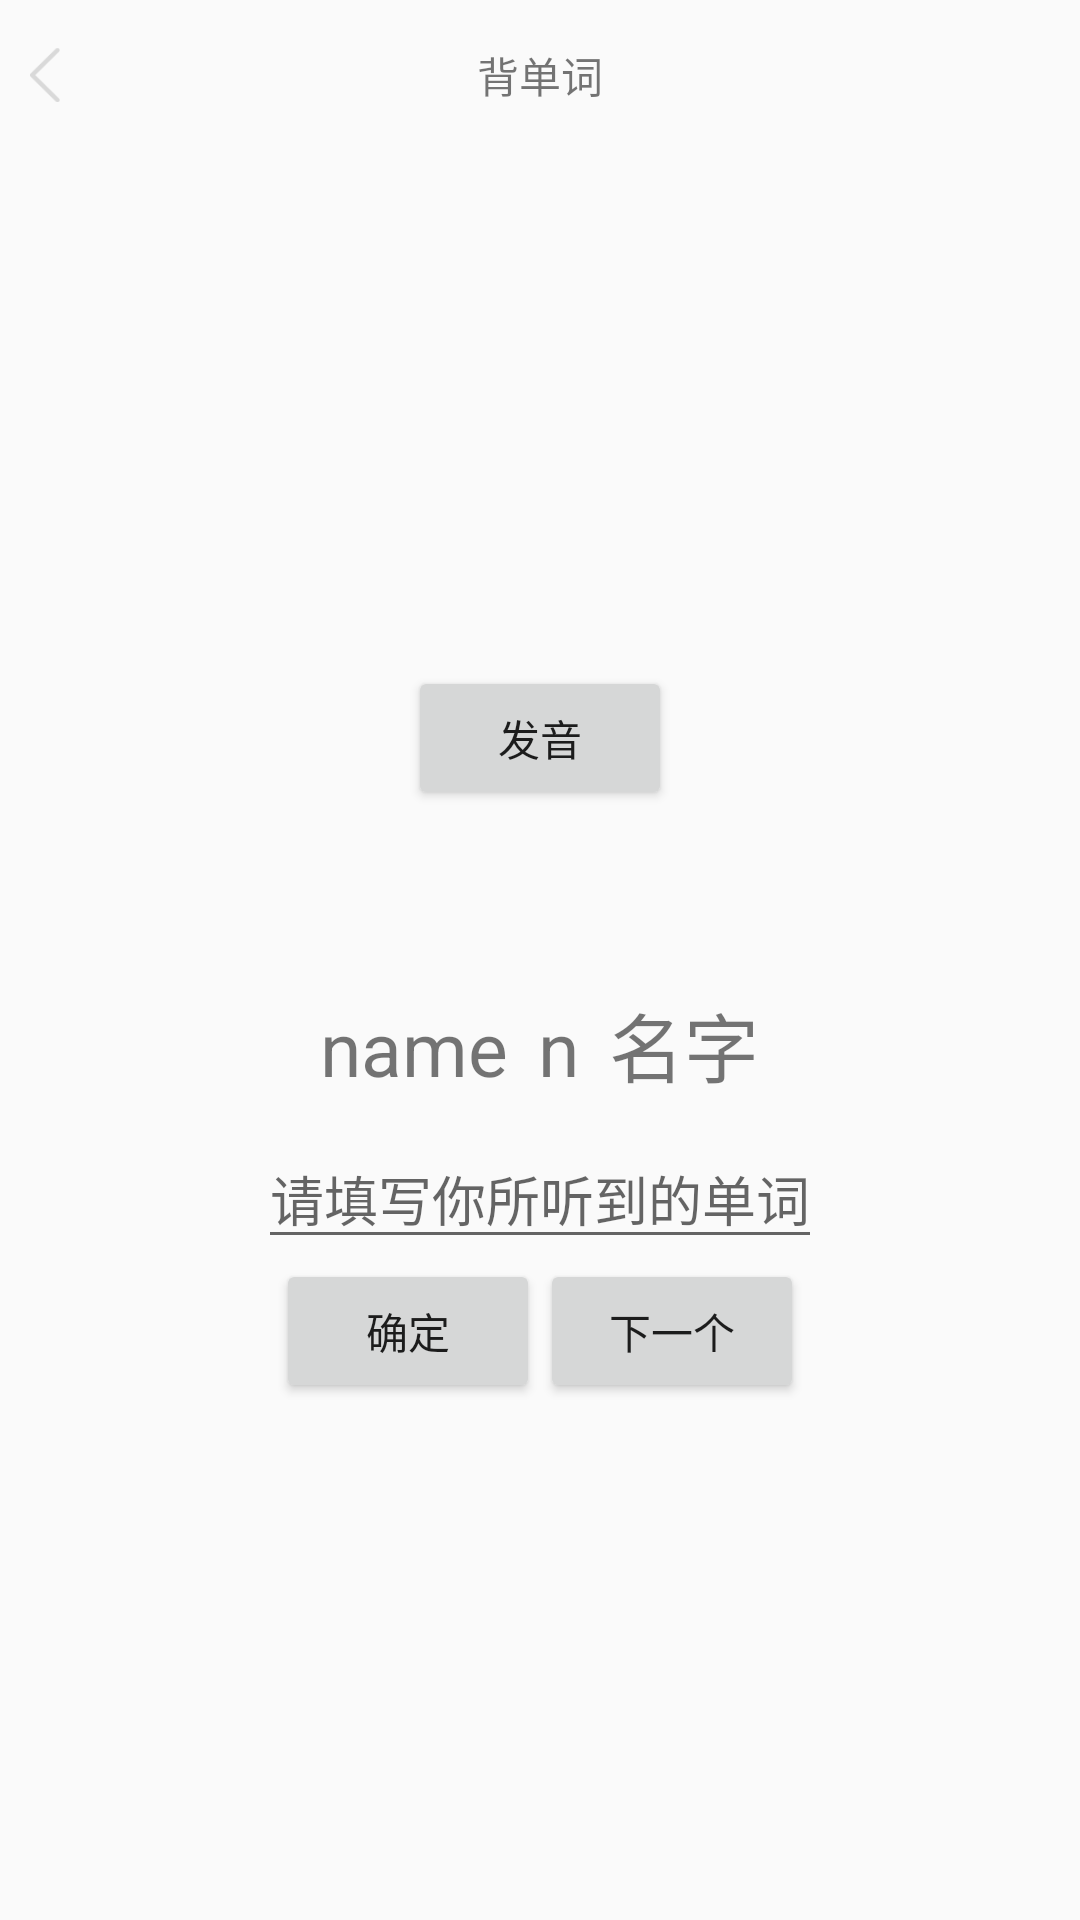

Icons on this 1080 × 1920 Android screen, each with the point to tap as (x=x, y=y):
fanhui: (x=44, y=75)
